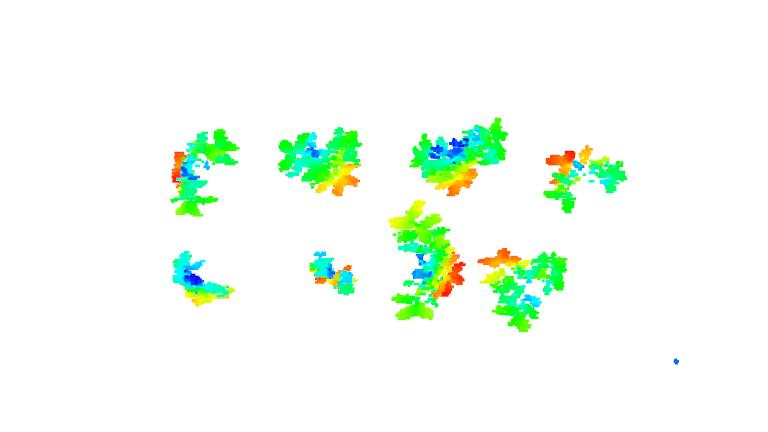chickpea: (391, 200, 466, 323), (413, 115, 509, 196), (479, 246, 568, 332), (274, 124, 366, 200), (167, 124, 237, 218), (545, 145, 626, 216), (169, 249, 233, 309), (304, 247, 362, 298)
